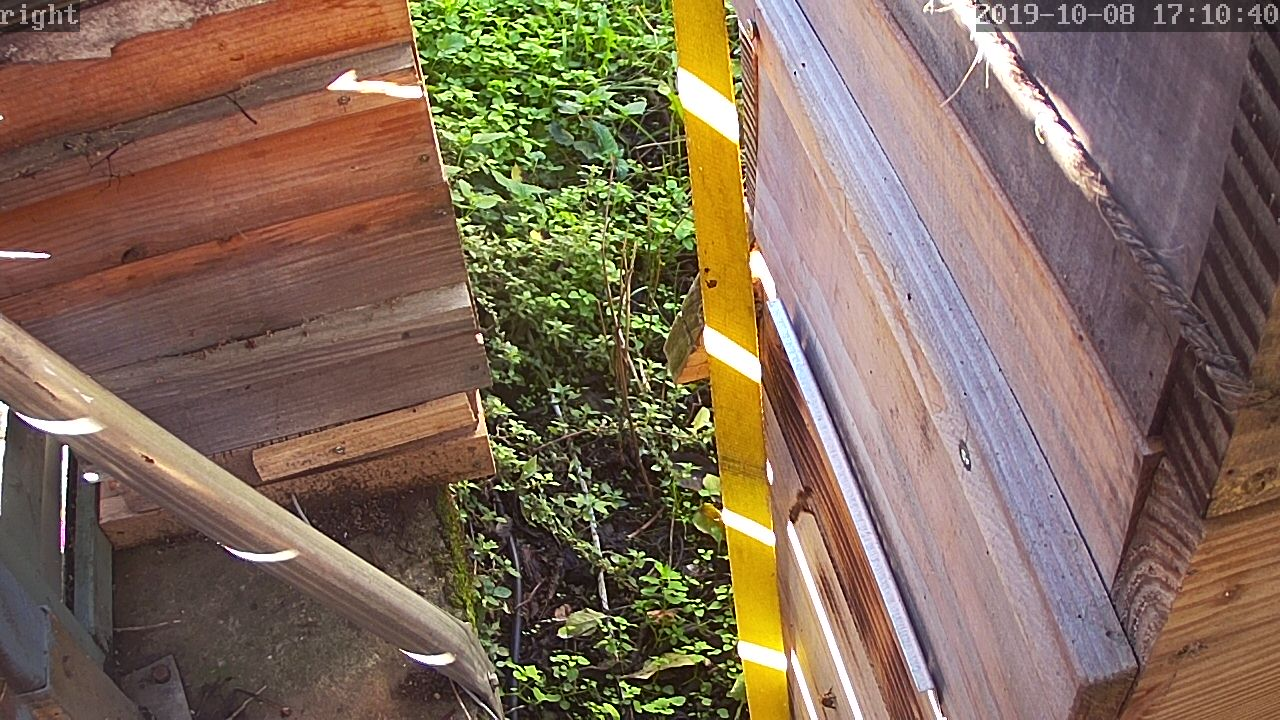bee: (779, 481, 818, 527), (813, 687, 849, 720)
